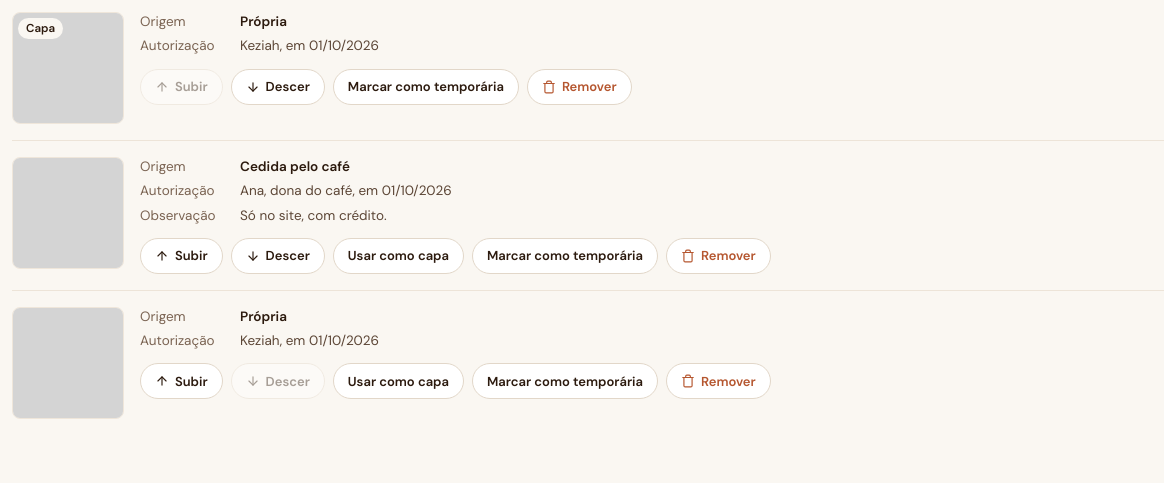
Scenario: ListaDeFotos › action que não responde (rede caiu) vira erro genérico e libera os botões
Step 1. Click the button with aria-label "Descer foto 1 de 3" → (278, 86), box x1=231 y1=68 x2=325 y2=104
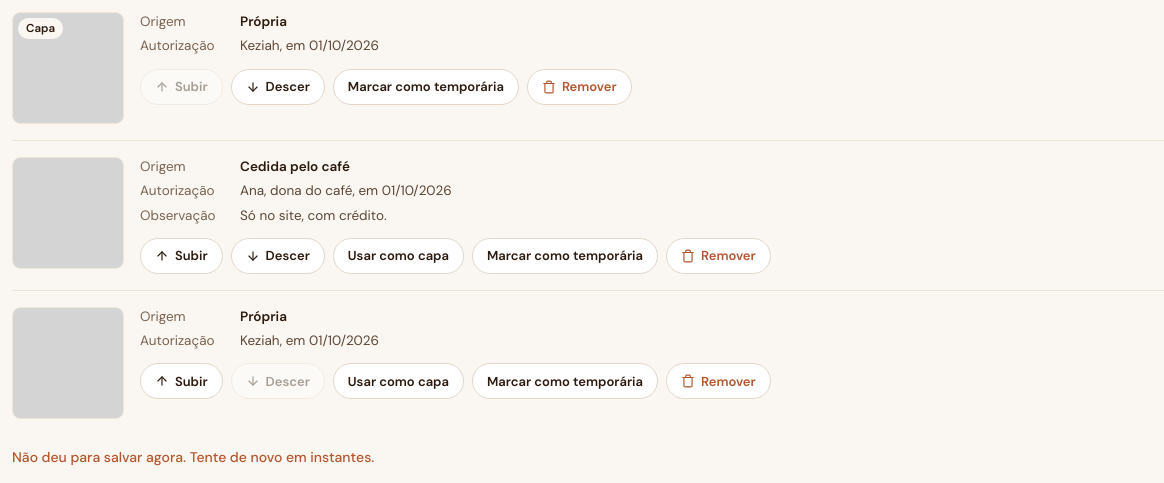
Expected: the message reads "Não deu para salvar agora. Tente de novo em instantes.", x1=12 y1=448 x2=374 y2=466
